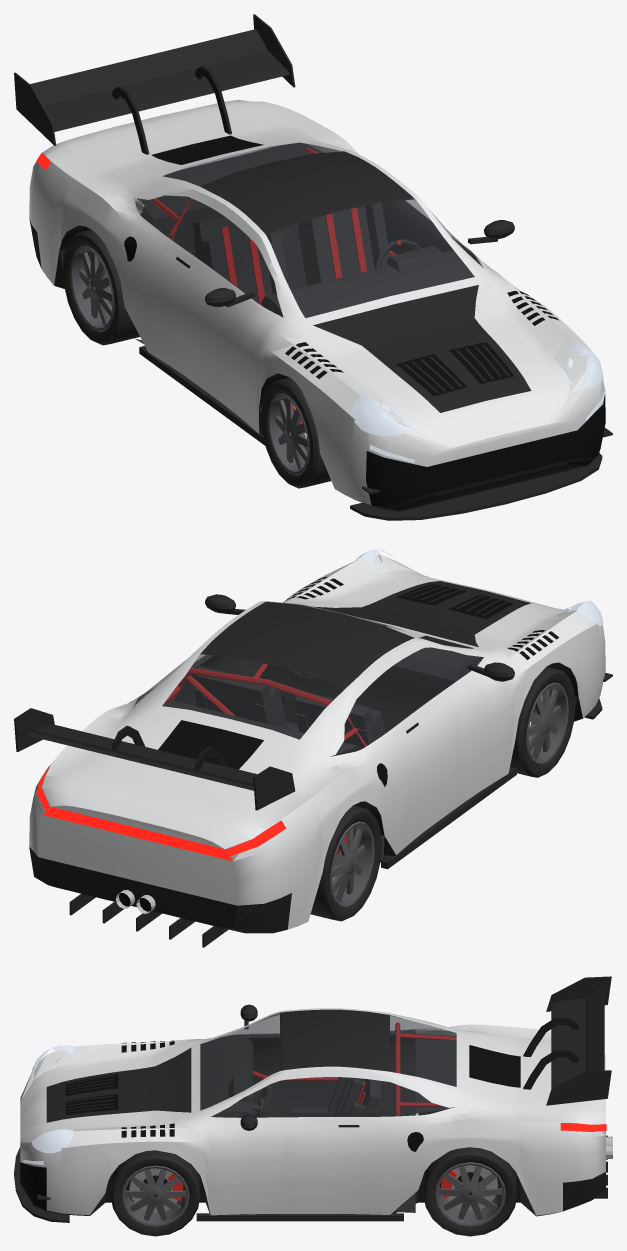
The model's file is gt3rs-proc.glb.
The picture shows the model from 3 angles, top to bottom: view 1: azimuth 30°, elevation 25°; view 2: azimuth 150°, elevation 25°; view 3: azimuth 270°, elevation 25°; orthographic projection. The views are drawn at different scales.
Visible parts, largest first — view 1: GT3RS_Body, GT3RS_Wheel_RR, GT3RS_Wheel_FR; view 2: GT3RS_Body, GT3RS_Wheel_RR, GT3RS_Wheel_FR; view 3: GT3RS_Body, GT3RS_Wheel_RL, GT3RS_Wheel_FL.
Part boxes in pixels (x1,y1,x2,y2): GT3RS_Body: (14,14,612,520); GT3RS_Wheel_RR: (62,229,139,345); GT3RS_Wheel_FR: (260,377,331,488); GT3RS_Body: (14,549,612,947); GT3RS_Wheel_RR: (310,805,381,921); GT3RS_Wheel_FR: (510,666,575,777); GT3RS_Body: (14,976,612,1222); GT3RS_Wheel_RL: (423,1147,517,1236); GT3RS_Wheel_FL: (110,1150,200,1236).
Bounding box in the file's own units: 2.24 × 1.4 × 4.67.
